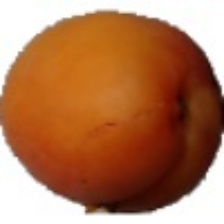apricot: (47, 11, 185, 209)
